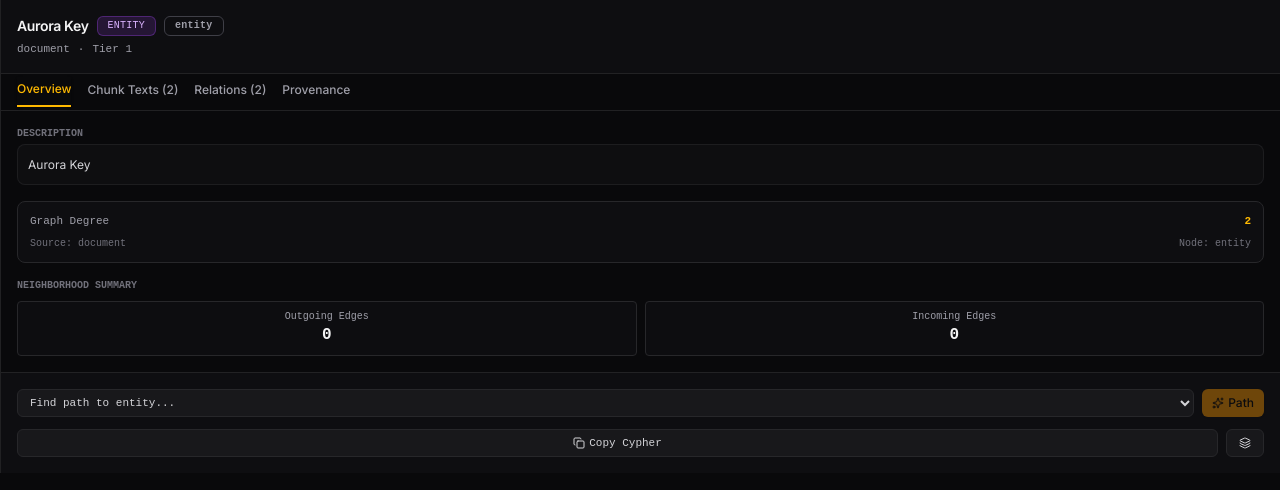
Scenario: Step 7 Graph UI inspector › shows Postgres-mention chunk texts on an Entity node click
The image size is (1280, 490).
Press the mouse on the tab "Chunk Texts (2)": [133, 92] box [88,78,178,106]
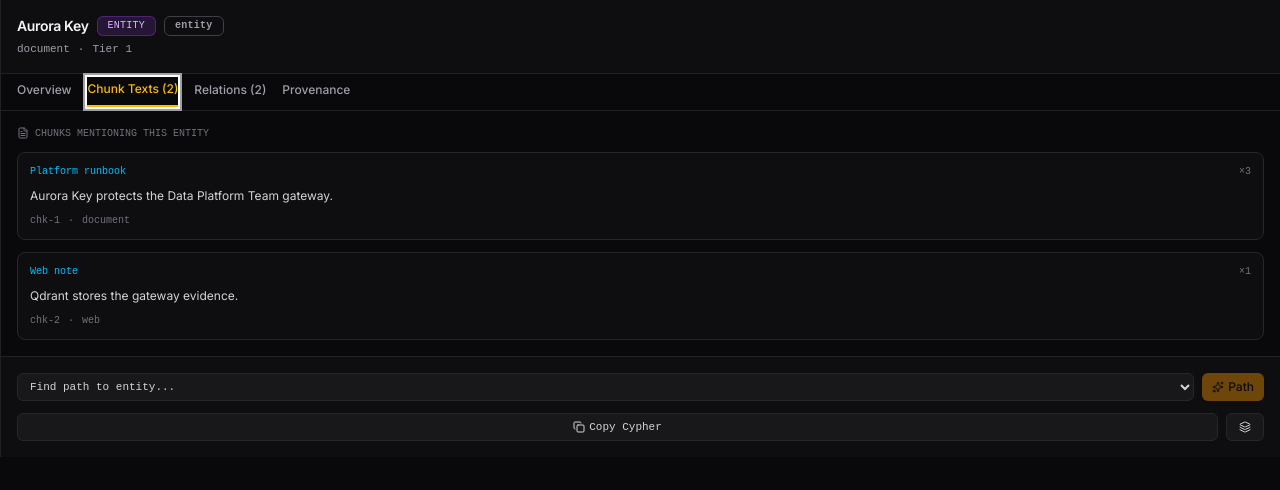
Expected: the text "Aurora Key protects the Data Platform Team gateway." is shown, [30,188,333,203]
Expected: the text "Qdrant stores the gateway evidence." is shown, [30,288,238,304]
Expected: the text "Platform runbook" is shown, [30,165,126,178]
